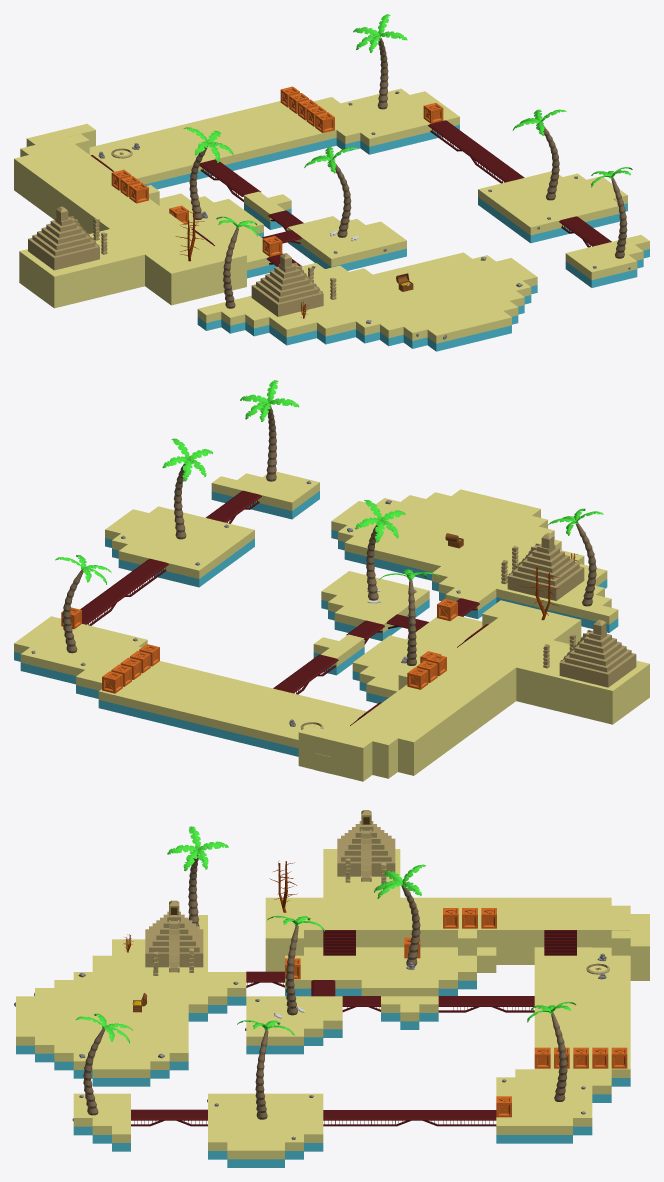
Rendered from Map_Final_Fixed.fbx.
The picture shows the model from 3 angles, top to bottom: view 1: azimuth 30°, elevation 25°; view 2: azimuth 150°, elevation 25°; view 3: azimuth 270°, elevation 25°; orthographic projection. The views are drawn at different scales.
Visible parts, largest first — view 1: temple 2, temple 1, jembatan 5, pohon 3, pohon 5, pohon 4, pohon 2, jembatan 4, pohon 6, pohon 1, jembatan 1, Cube.183 (+14 smaller); view 2: temple 2, temple 1, jembatan 5, pohon 1, pohon 2, pohon 4, pohon 3, pohon 6, jembatan 4, pohon 5, jembatan 1, Cube.920 (+4 smaller); view 3: temple 1, temple 2, jembatan 5, pohon 6, pohon 5, pohon 1, jembatan 4, pohon 3, pohon 2, pohon 4, jembatan 1, Cube.162 (+34 smaller).
Boxes of the visible parts, left/top/right/bottom form: temple 2: left=28, top=206, right=99, bottom=270; temple 1: left=251, top=253, right=323, bottom=316; jembatan 5: left=428, top=120, right=524, bottom=182; pohon 3: left=353, top=14, right=407, bottom=109; pohon 5: left=183, top=127, right=233, bottom=220; pohon 4: left=304, top=147, right=357, bottom=237; pohon 2: left=512, top=109, right=566, bottom=200; jembatan 4: left=199, top=159, right=260, bottom=196; pohon 6: left=216, top=216, right=263, bottom=308; pohon 1: left=591, top=167, right=632, bottom=258; jembatan 1: left=559, top=216, right=611, bottom=246; Cube.183: left=221, top=308, right=245, bottom=333; temple 2: left=559, top=619, right=636, bottom=687; temple 1: left=507, top=533, right=584, bottom=600; jembatan 5: left=80, top=558, right=168, bottom=624; pohon 1: left=240, top=380, right=299, bottom=481; pohon 2: left=162, top=438, right=212, bottom=539; pohon 4: left=355, top=500, right=405, bottom=600; pohon 3: left=55, top=555, right=111, bottom=653; pohon 6: left=548, top=508, right=603, bottom=606; jembatan 4: left=273, top=654, right=338, bottom=693; pohon 5: left=379, top=569, right=439, bottom=665; jembatan 1: left=206, top=490, right=261, bottom=522; Cube.920: left=372, top=734, right=397, bottom=761; temple 1: left=145, top=900, right=203, bottom=967; temple 2: left=337, top=810, right=395, bottom=876; jembatan 5: left=323, top=1110, right=496, bottom=1120; pohon 6: left=167, top=826, right=228, bottom=926; pohon 5: left=374, top=864, right=426, bottom=965; pohon 1: left=75, top=1013, right=132, bottom=1115; jembatan 4: left=438, top=996, right=534, bottom=1006; pohon 3: left=527, top=1001, right=575, bottom=1101; pohon 2: left=237, top=1020, right=294, bottom=1119; pohon 4: left=267, top=915, right=324, bottom=1015; jembatan 1: left=131, top=1109, right=207, bottom=1120; Cube.162: left=169, top=920, right=179, bottom=972.
Size of what is drawn, in the model's own units: 7000 by 1317 by 6619.
